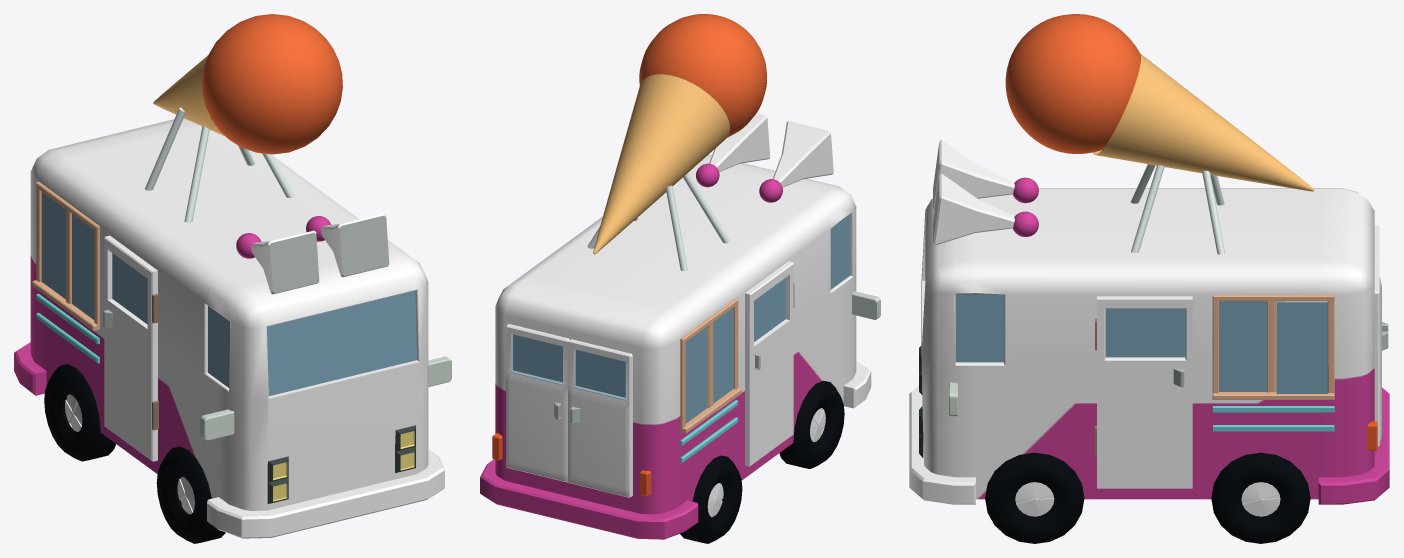
Rendered from Icecream truck.fbx.
The picture shows the model from 3 angles, left to right: view 1: azimuth 30°, elevation 25°; view 2: azimuth 150°, elevation 25°; view 3: azimuth 270°, elevation 25°; orthographic projection. The views are drawn at different scales.
Visible parts, largest first — view 1: models_f19:models_f18:models_f17:models_f16:models_f15:model (×3); view 2: models_f19:models_f18:models_f17:models_f16:models_f15:model (×3); view 3: models_f19:models_f18:models_f17:models_f16:models_f15:model (×3).
Part boxes in pixels (x1,y1,x2,y2): models_f19:models_f18:models_f17:models_f16:models_f15:model (×3): [14, 14, 451, 543]; models_f19:models_f18:models_f17:models_f16:models_f15:model (×3): [480, 14, 880, 543]; models_f19:models_f18:models_f17:models_f16:models_f15:model (×3): [909, 14, 1389, 543].
Bounding box in the file's own units: 4.98 × 9.21 × 8.4.
